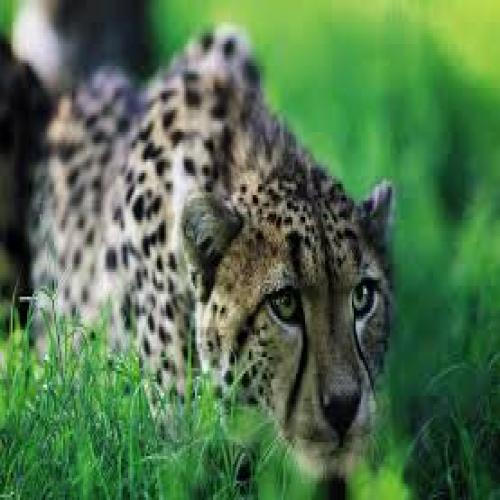cheetah-endangered: (0, 23, 400, 473)
